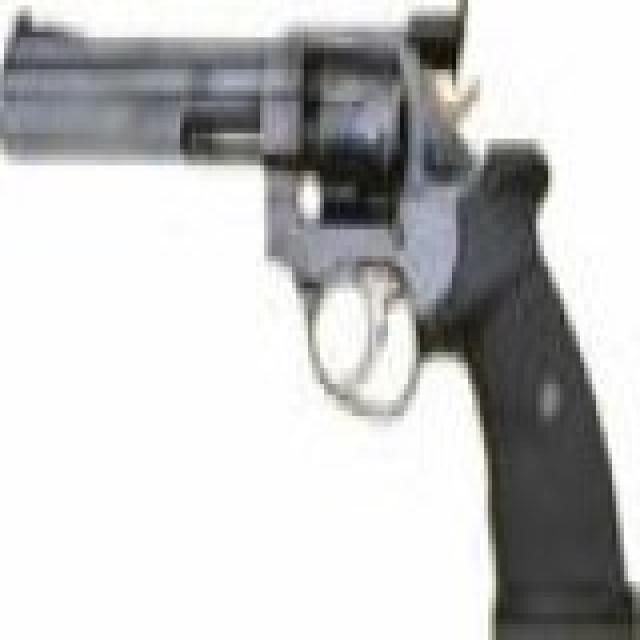gun: (0, 0, 624, 635)
